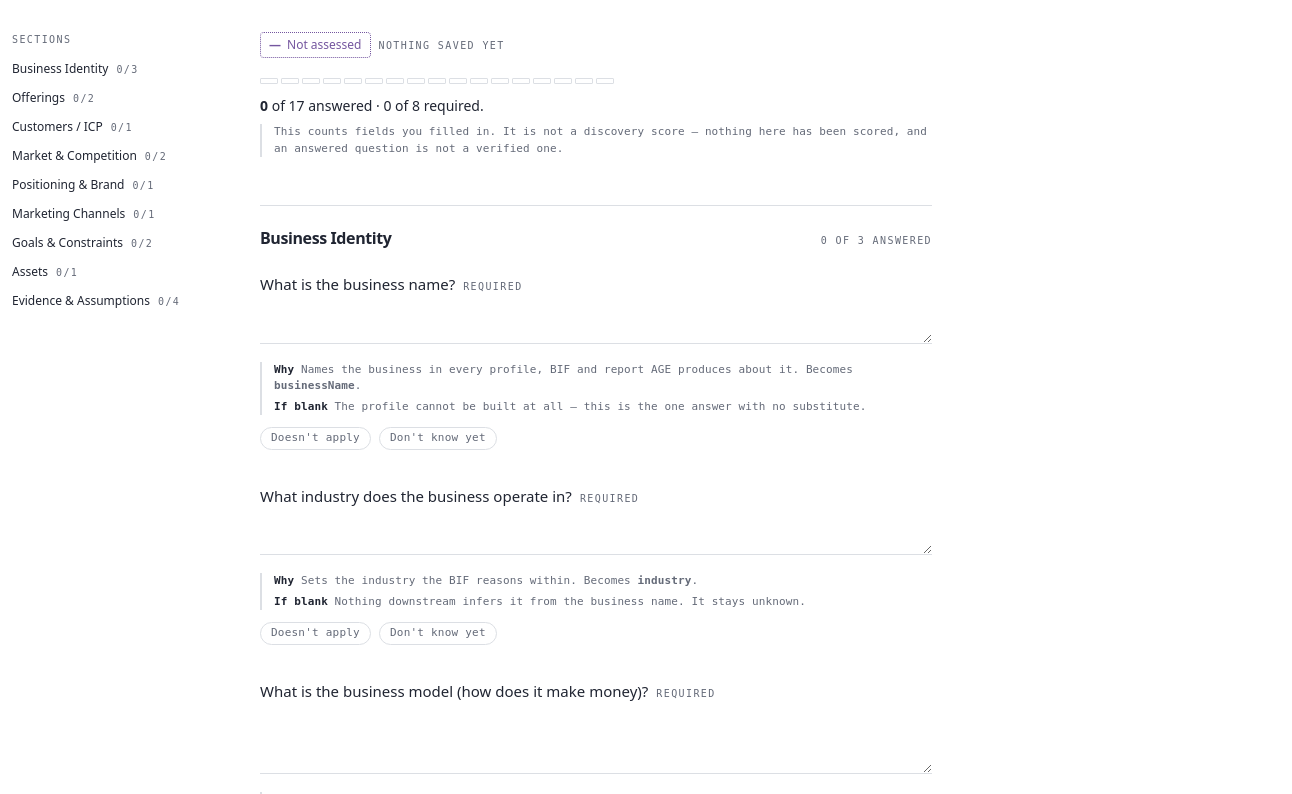
Test: DiscoveryForm › autosave › shows unsaved changes between the keystroke and the save
Type "Fictional" into the text box labelled "What is the business name?required" at (596, 323), box [260,303,932,344]
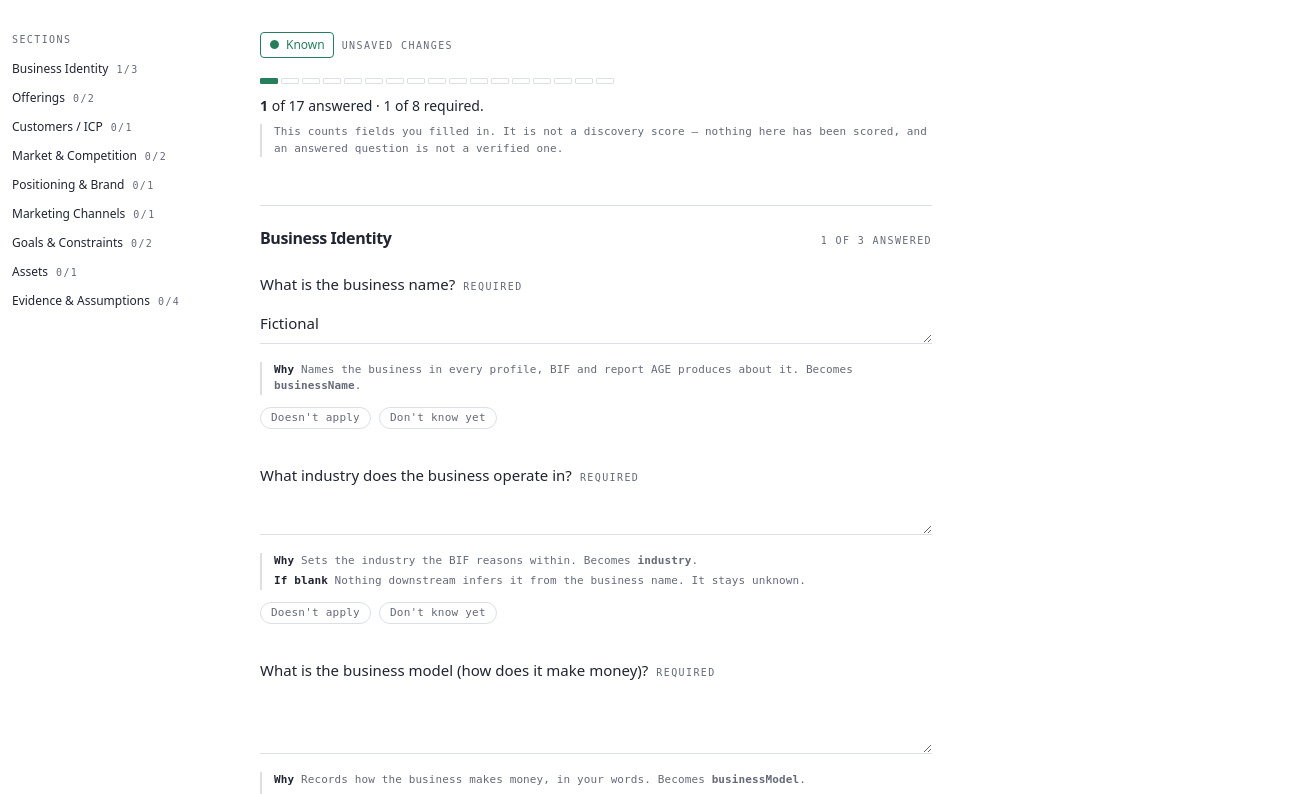
Now the text "Unsaved changes" is shown, box [342,38,453,52]
